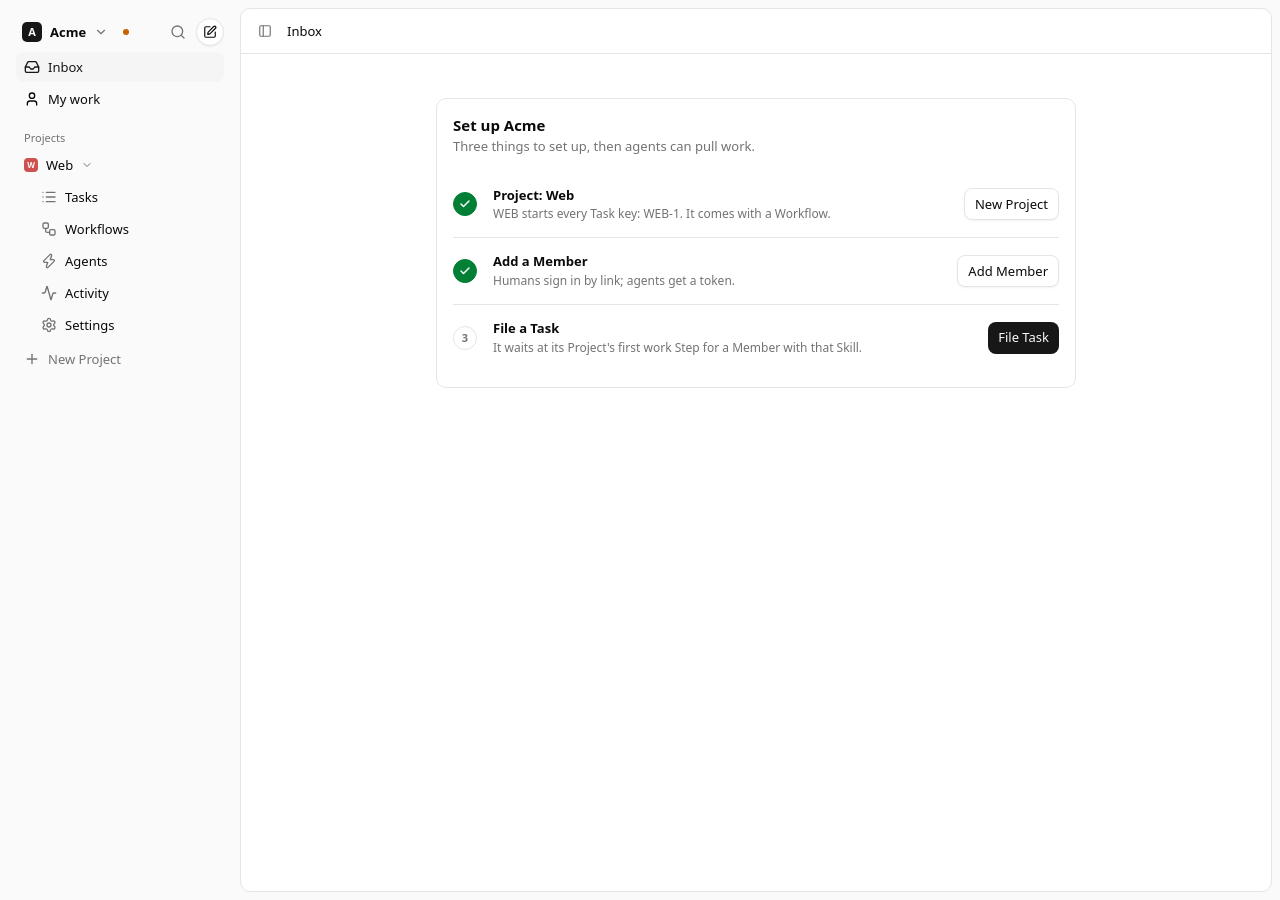
Test: the Projects › New Project opens the dialog
Click the button "New Project" below "Settings": (120, 359) [16, 344, 224, 374]
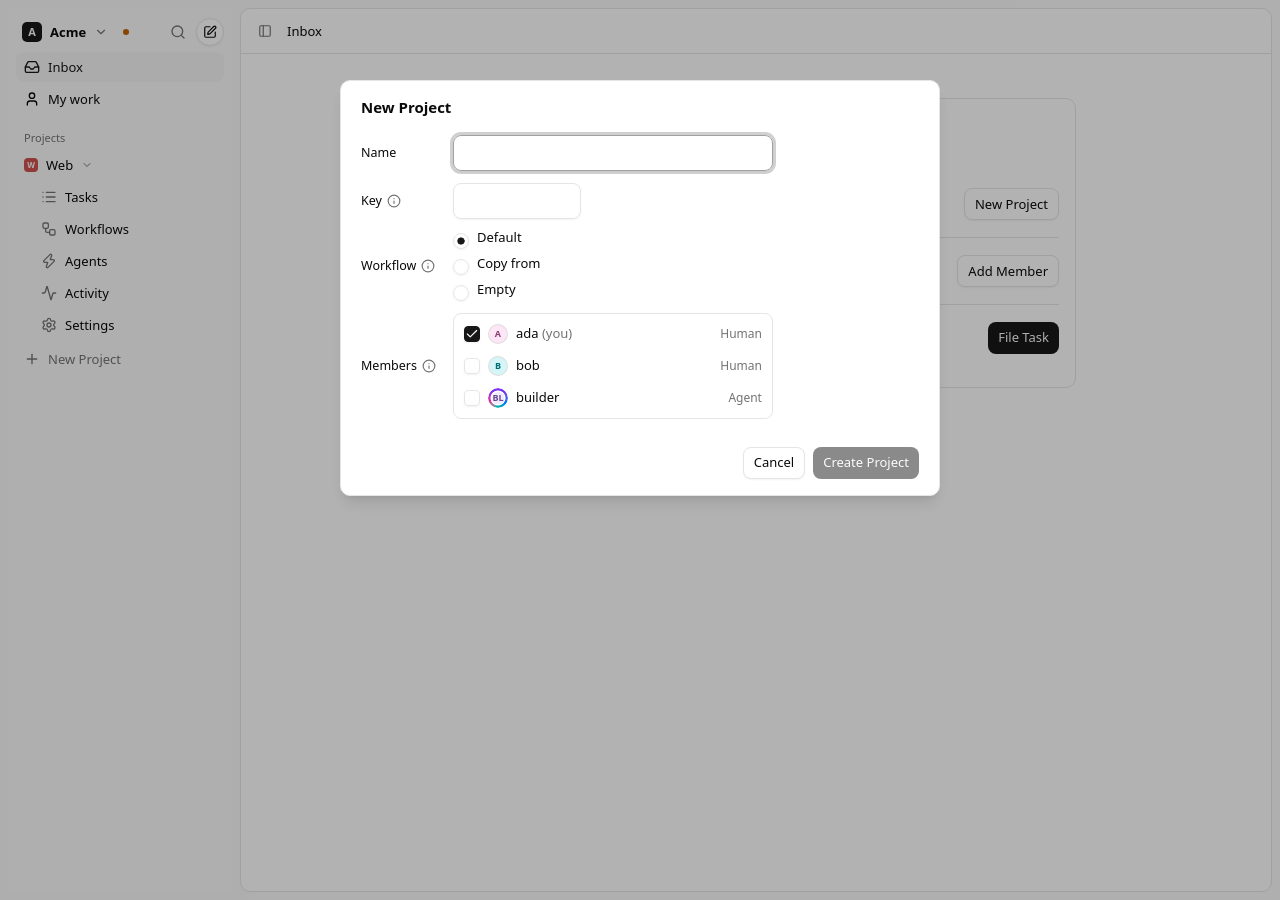
Expected: the dialog "New Project" is shown, [340, 80, 940, 496]
